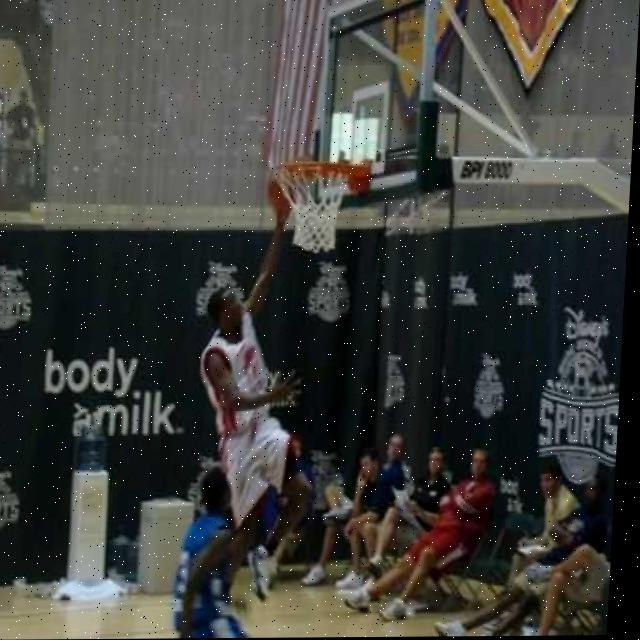basketball: (265, 163, 301, 214)
hoop: (268, 158, 355, 257)
